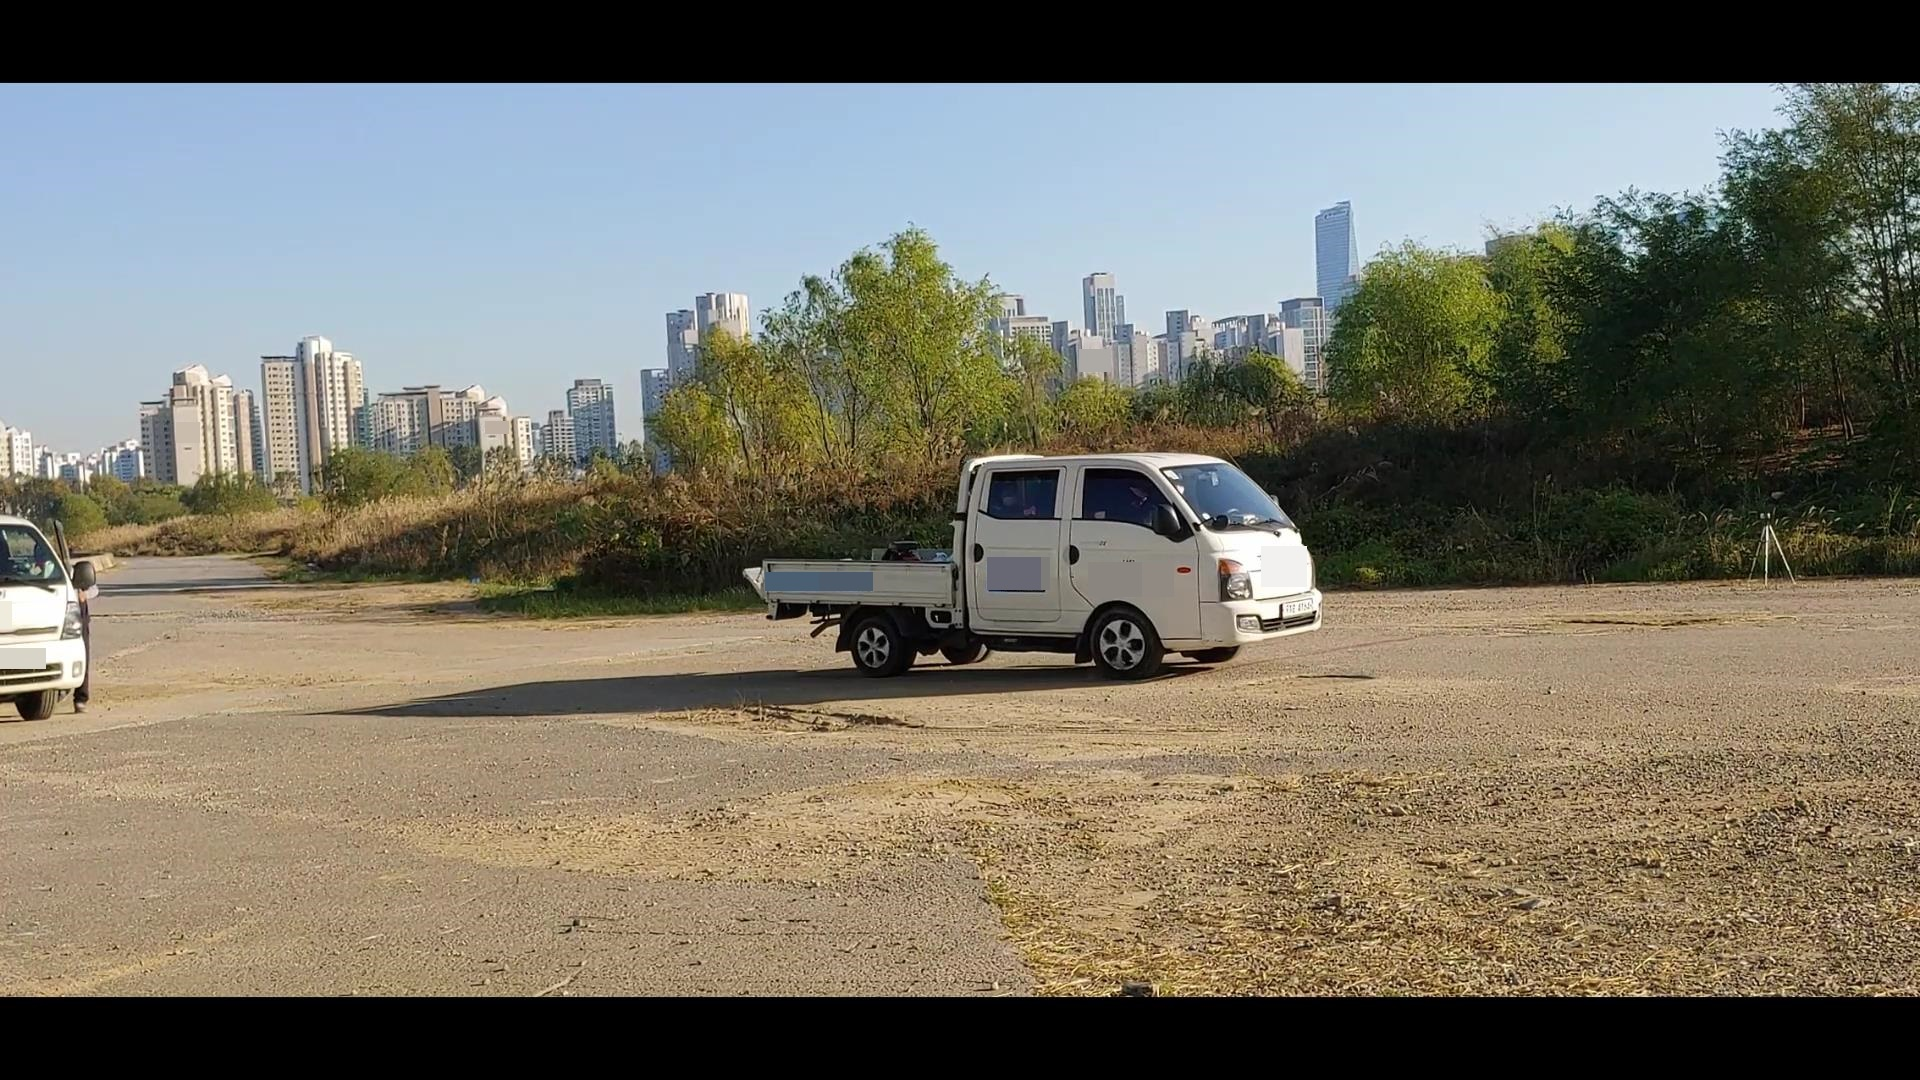불법차량: (742, 452, 1323, 679)
